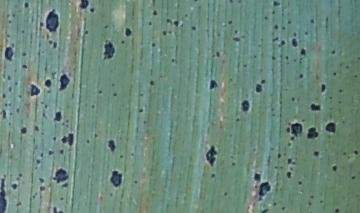tarspot: (43, 6, 62, 34), (204, 142, 221, 168), (286, 116, 304, 139), (100, 37, 116, 62), (49, 164, 69, 184), (255, 181, 274, 202), (108, 167, 124, 189), (57, 70, 70, 93), (1, 173, 8, 213), (61, 129, 76, 147), (3, 43, 16, 63), (26, 82, 41, 99), (324, 119, 338, 137), (305, 124, 319, 142), (120, 24, 134, 39), (308, 99, 323, 113), (51, 108, 64, 124), (207, 76, 220, 92), (239, 97, 252, 113), (107, 137, 118, 153), (250, 169, 262, 183), (327, 162, 341, 174), (253, 82, 264, 97), (289, 36, 300, 51), (50, 202, 65, 213), (17, 124, 30, 136), (77, 1, 91, 12), (319, 81, 329, 95), (50, 37, 60, 51), (214, 46, 223, 61), (147, 40, 159, 51), (41, 78, 54, 88), (147, 77, 157, 90), (19, 62, 30, 73), (136, 105, 147, 116), (284, 169, 294, 181), (32, 123, 42, 135), (350, 146, 360, 158), (312, 148, 321, 161), (299, 46, 308, 59), (269, 1, 283, 9), (297, 69, 305, 83), (285, 156, 295, 167), (1, 107, 8, 122), (275, 149, 283, 162), (47, 145, 55, 158), (189, 23, 199, 33), (10, 180, 19, 191), (160, 28, 169, 39), (332, 204, 343, 213), (151, 6, 158, 19), (58, 146, 67, 156), (23, 1, 32, 11), (226, 17, 235, 27), (37, 184, 48, 192), (36, 177, 47, 185), (329, 47, 337, 58), (209, 170, 216, 182), (173, 18, 181, 28), (297, 179, 304, 190), (272, 23, 280, 32), (330, 69, 338, 77)
